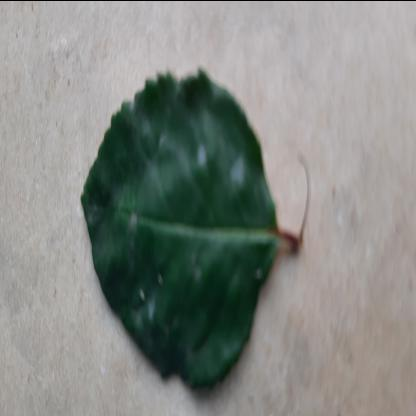powdery-mildew: (79, 50, 274, 396)
